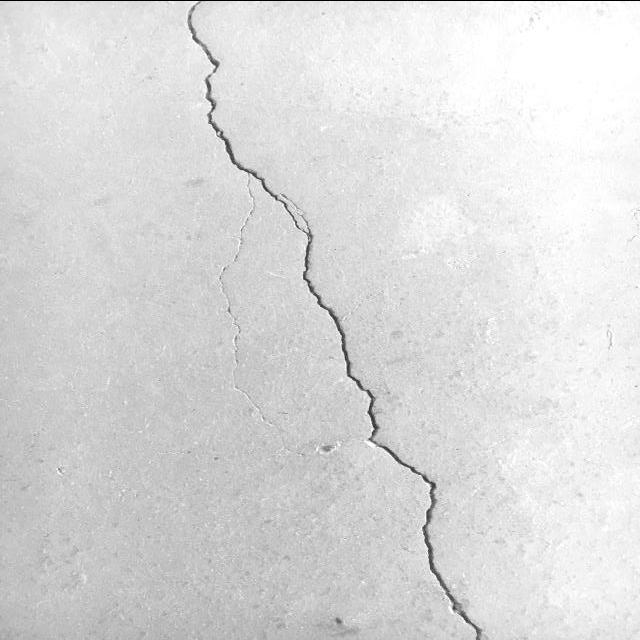SurfaceCrack: (146, 0, 508, 639)
